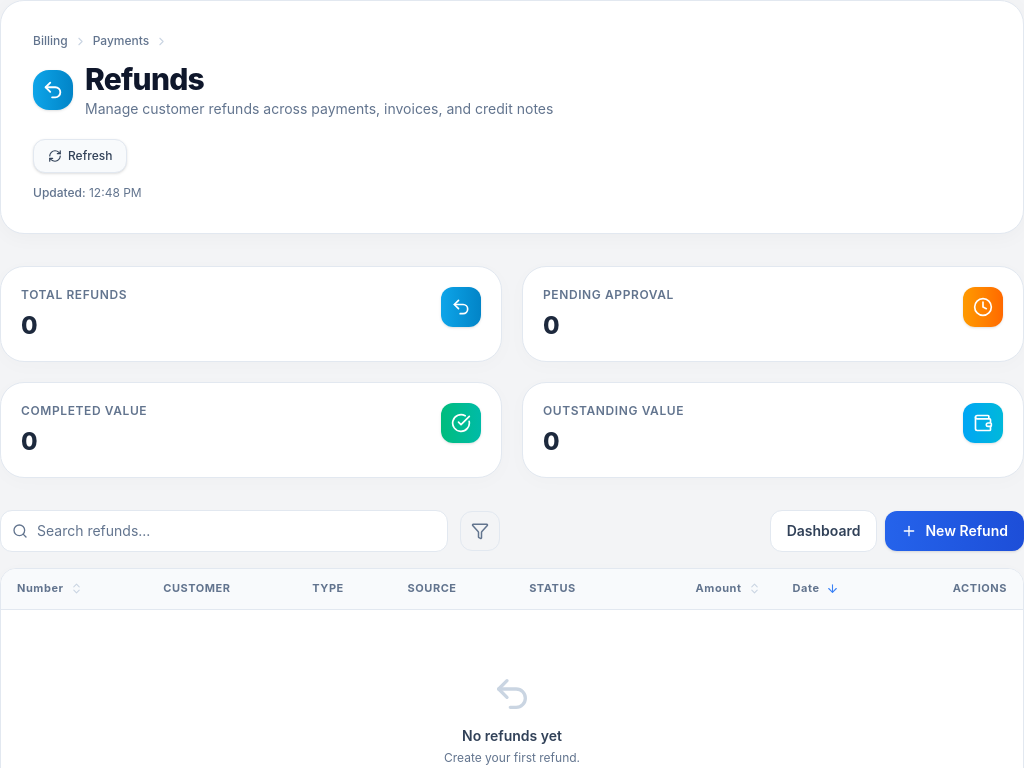
Test: B1 New Refund › customer with no eligible payments: clear empty state and a specific message
The image size is (1024, 768).
Click the button "New Refund".
click(955, 531)  # box [886, 511, 1023, 551]
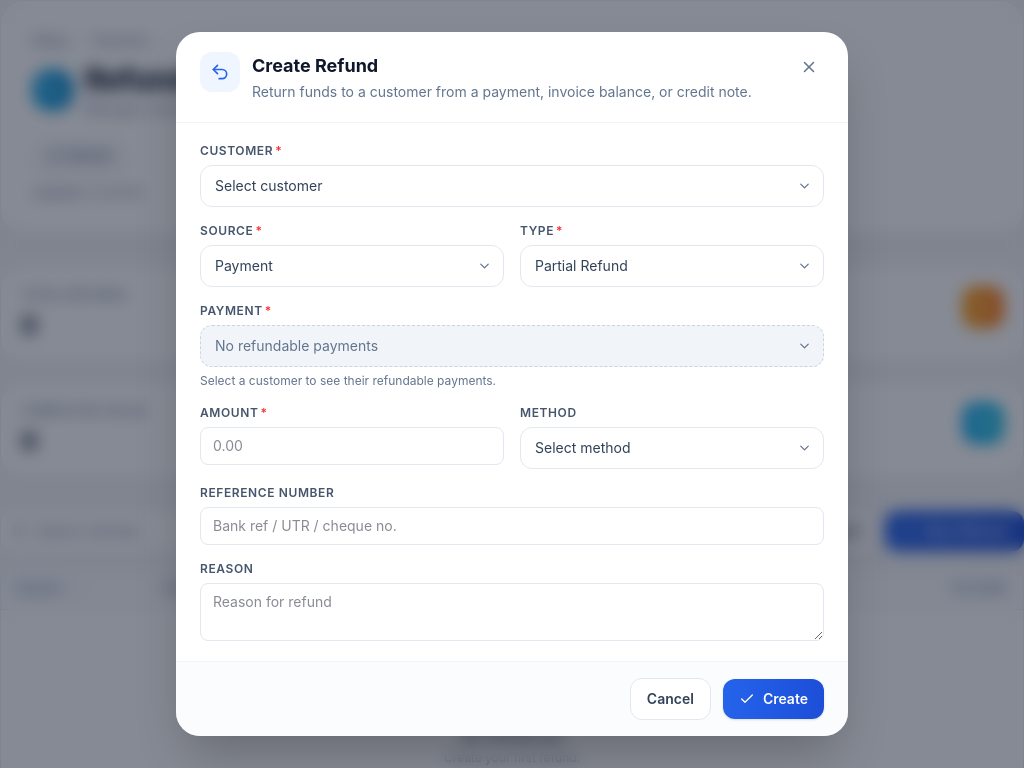
Select "Globex Corp" in the dropdown labelled "Customer*" at (512, 186), box [200, 165, 824, 207]
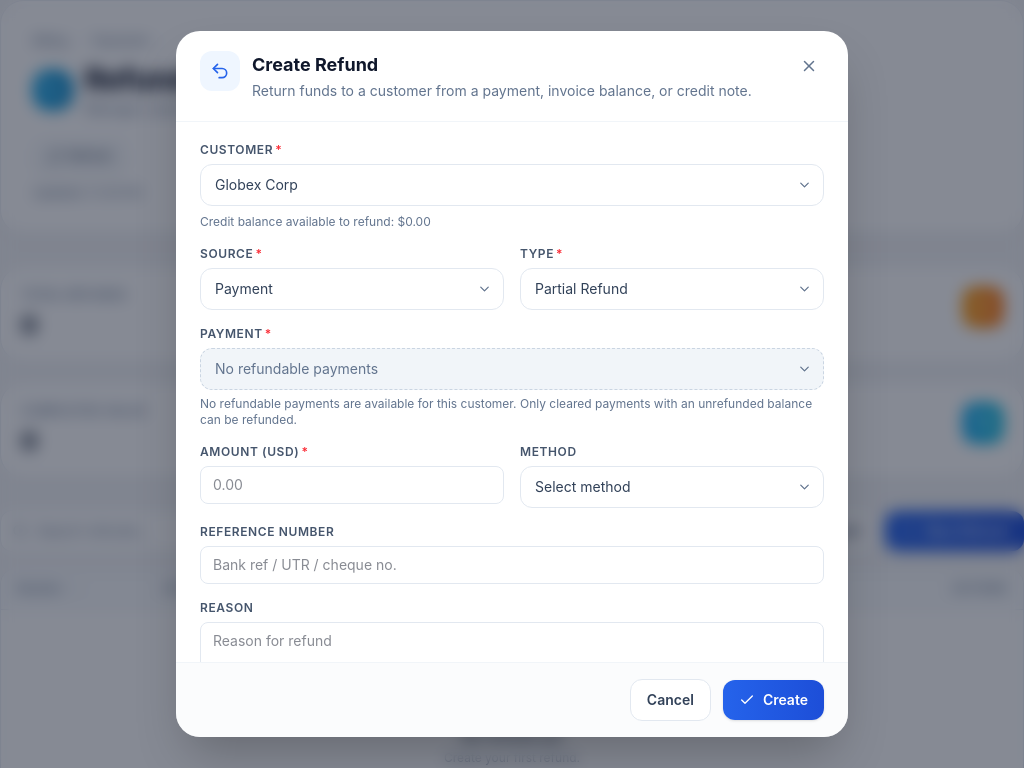
Expected: the text "No refundable payments are available for this customer" is shown, [200, 396, 812, 427]
Type "10" into the number field labelled "Amount (USD)*".
click(352, 485); type("10")  # box [200, 466, 504, 504]
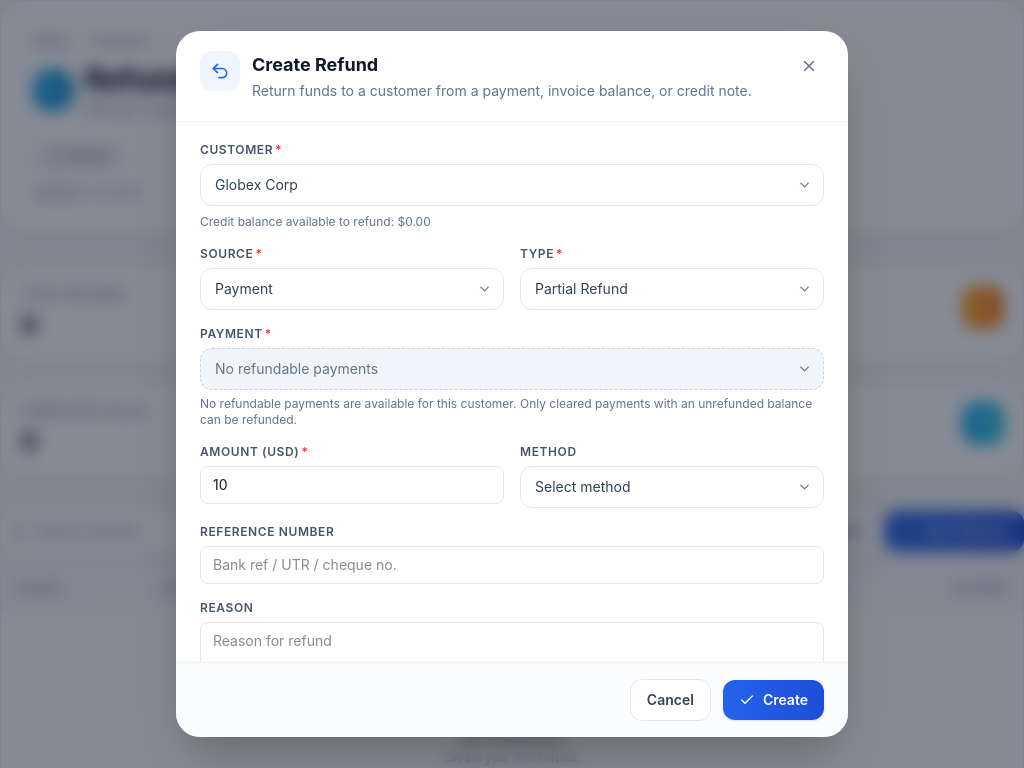
Click the button "Create".
click(773, 700)  # box [723, 680, 824, 720]
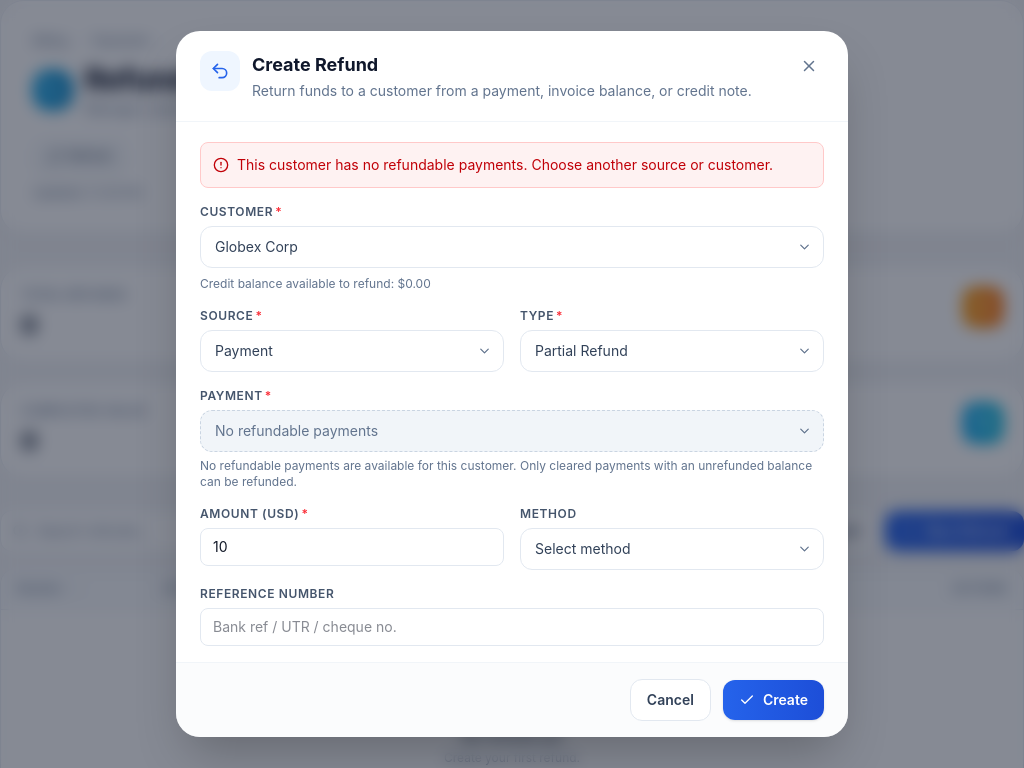
Expected: the text "This customer has no refundable payments" is shown, [237, 156, 773, 173]
